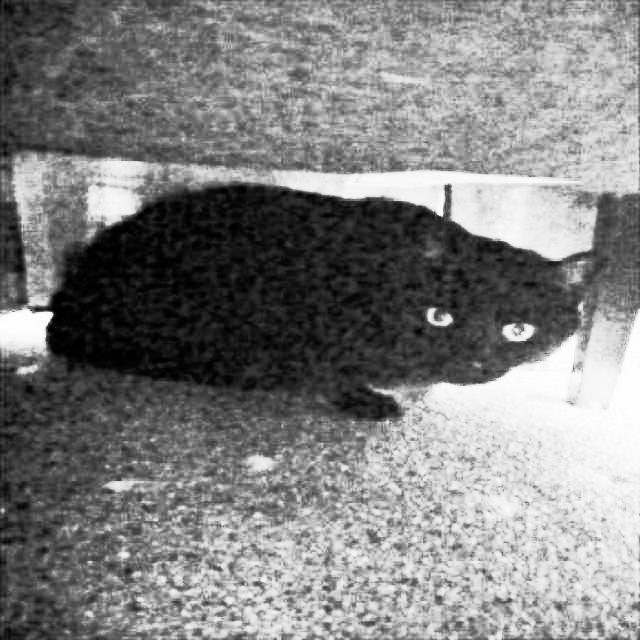Cat: (39, 178, 608, 421)
